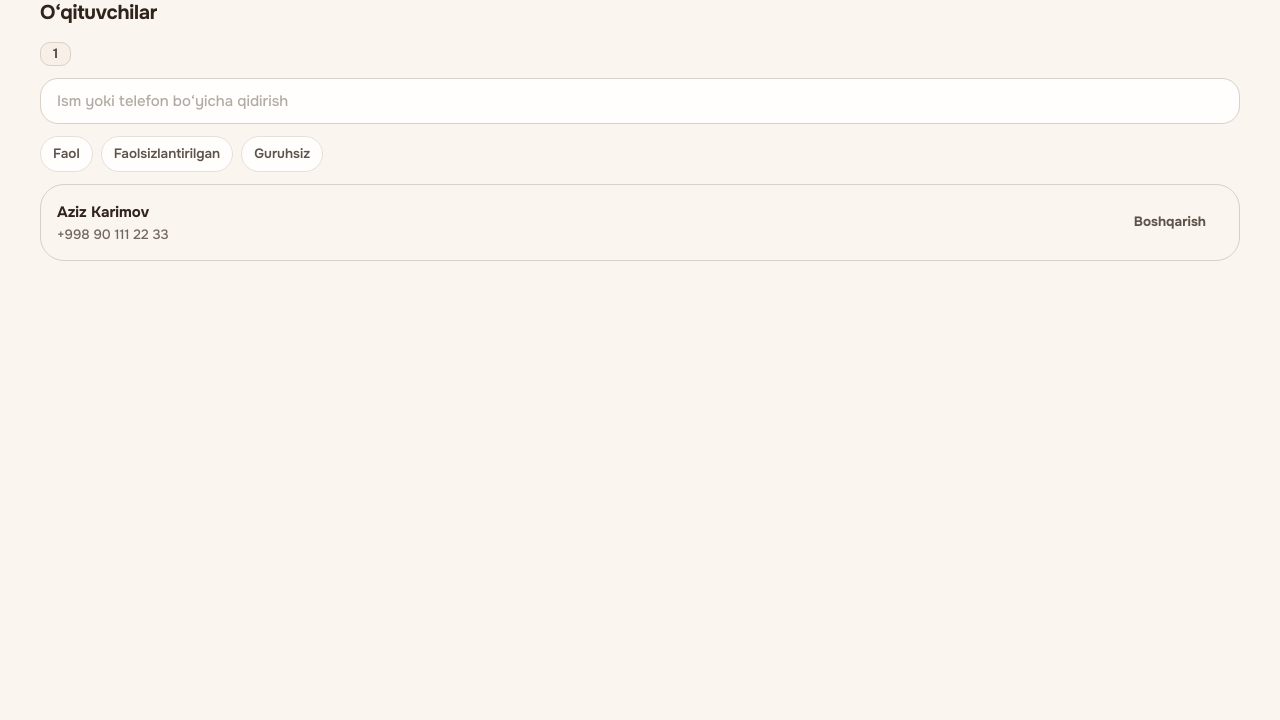
Scenario: Guruhni o'tkazish › says a missing group is gone rather than 'save failed'
Click the button "Boshqarish" at {"x": 1170, "y": 222}, box [1117,202,1223,242]
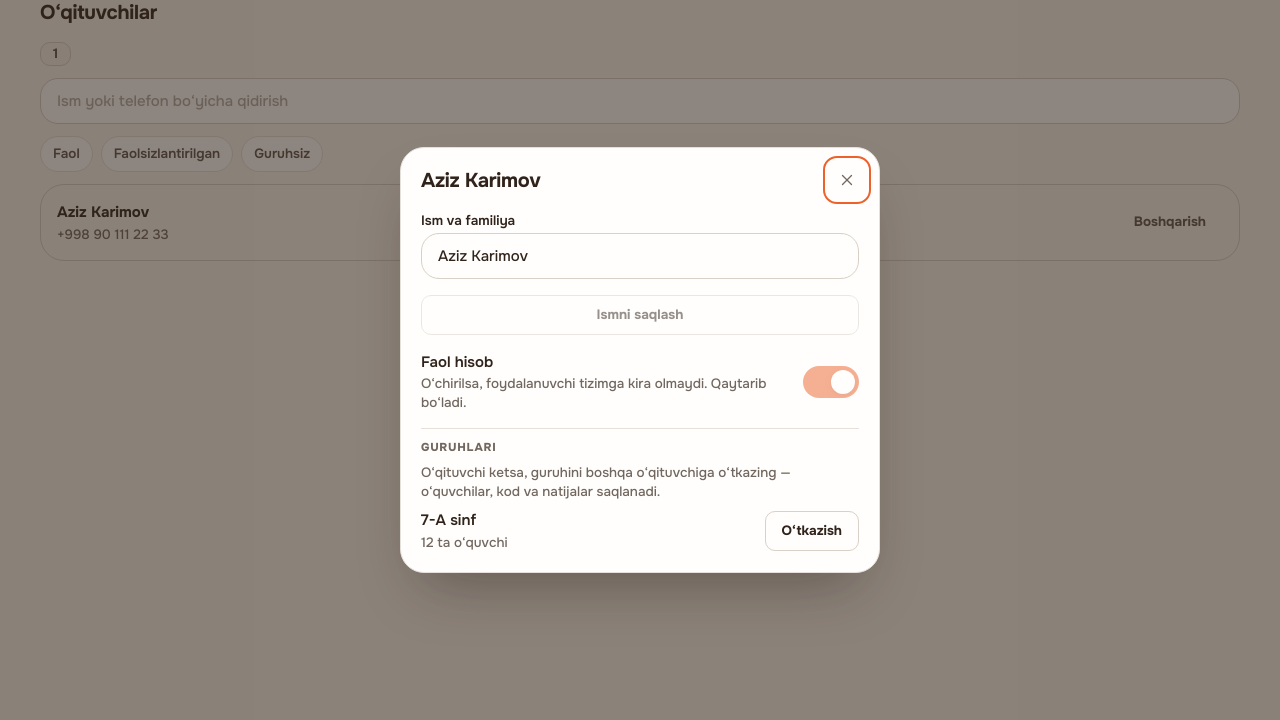
Click the button "O‘tkazish" at {"x": 812, "y": 530}, box [764,510,859,550]
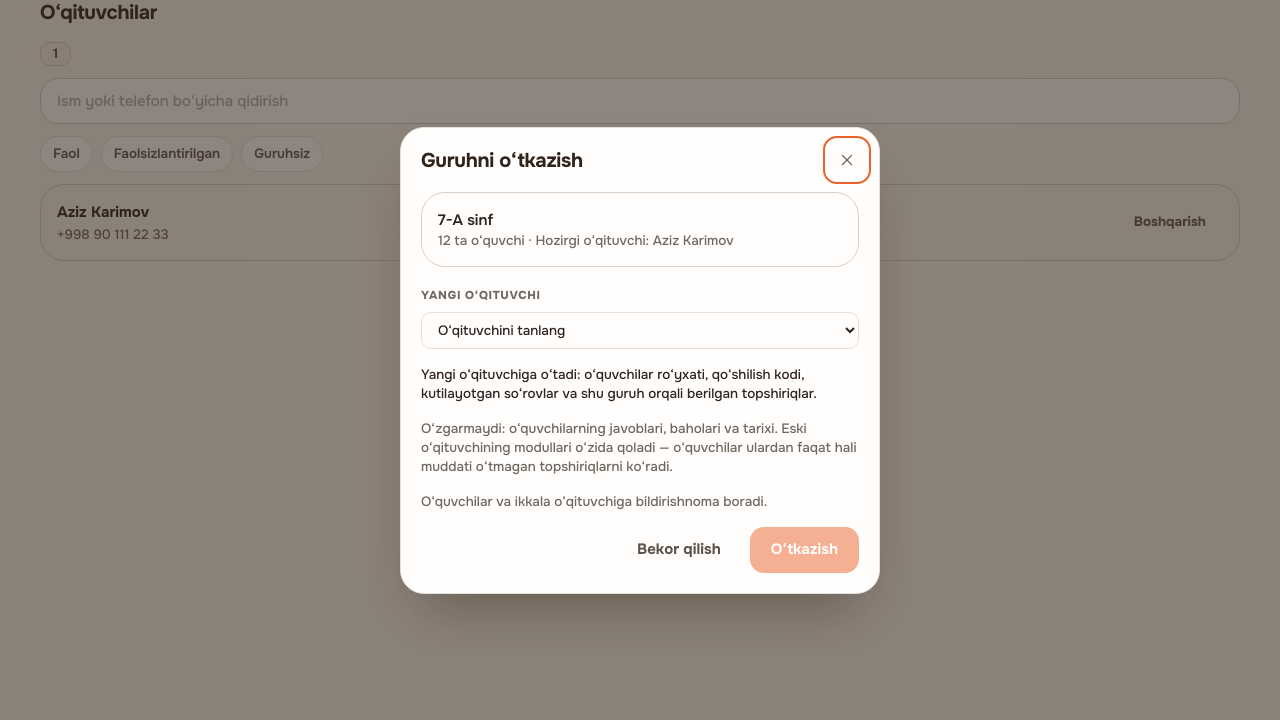
Expected: the heading "Guruhni o‘tkazish" is shown, [421,148,583,172]
Select "Nodira Tosheva" in the dropdown labelled "Yangi o‘qituvchi" at {"x": 640, "y": 330}, box [421,312,859,348]
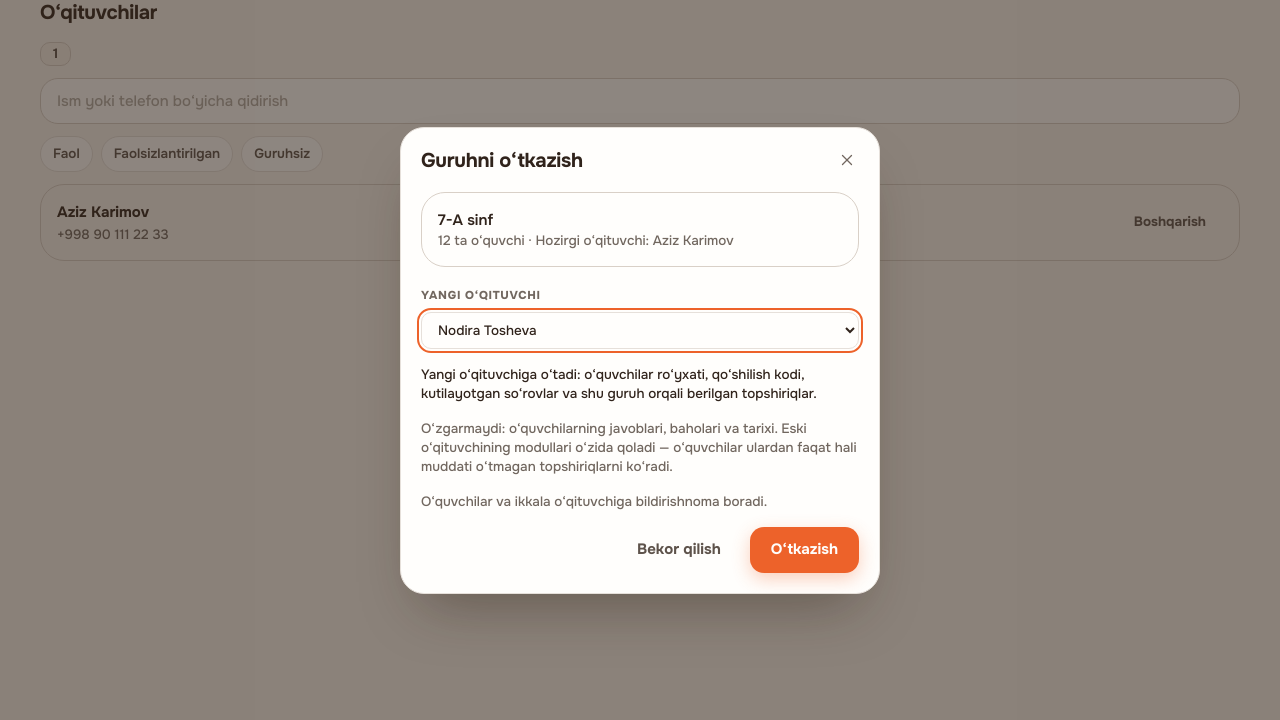
Click the button "O‘tkazish" at {"x": 804, "y": 550}, box [750,526,859,572]
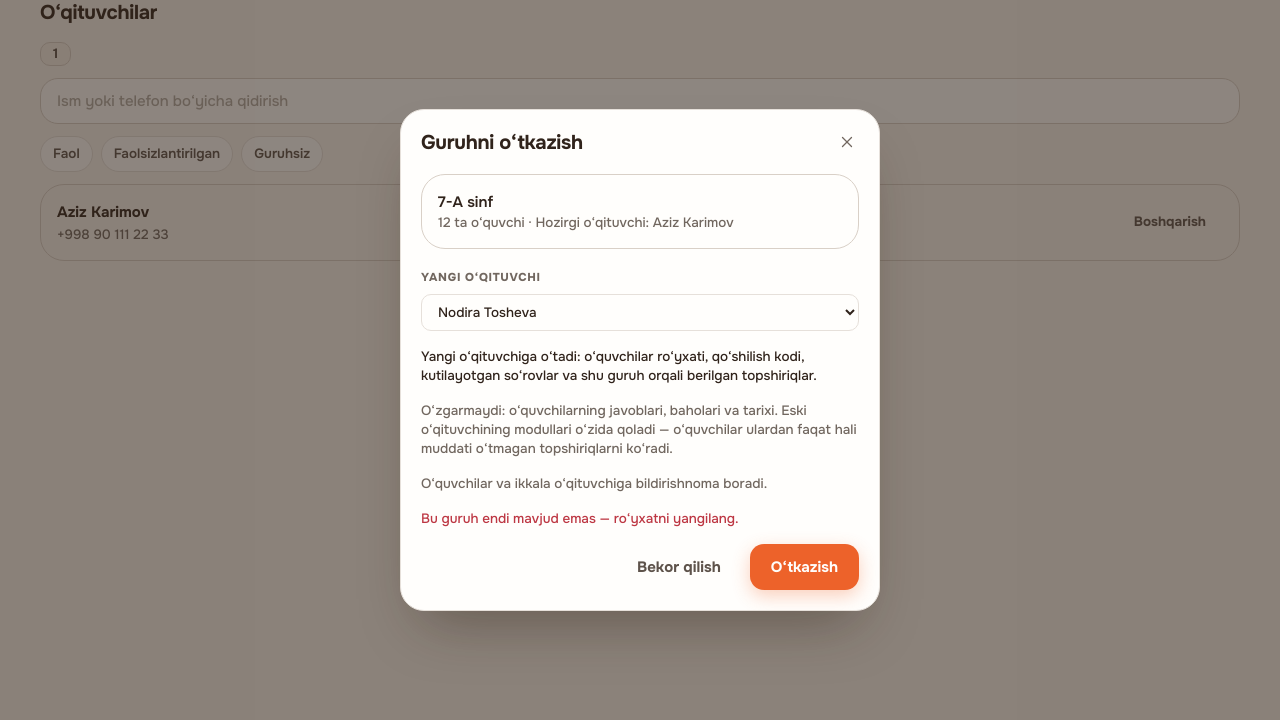
Expected: the message reads "Bu guruh endi mavjud emas — ro‘yxatni yangilang.", [421,510,739,527]
